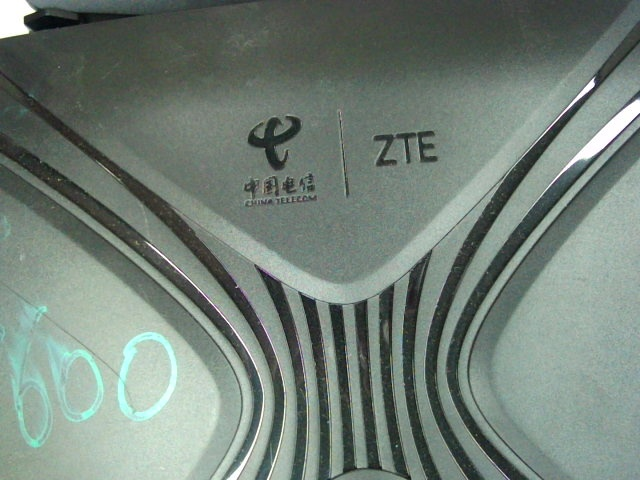AX_ZTEChinaTelecom: (220, 107, 439, 207)
